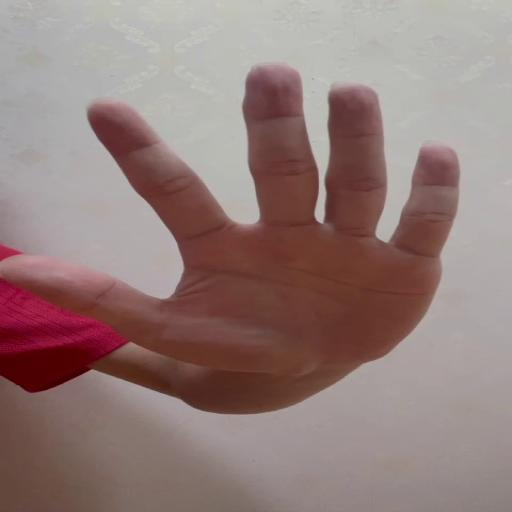open_palm: (2, 62, 464, 372)
